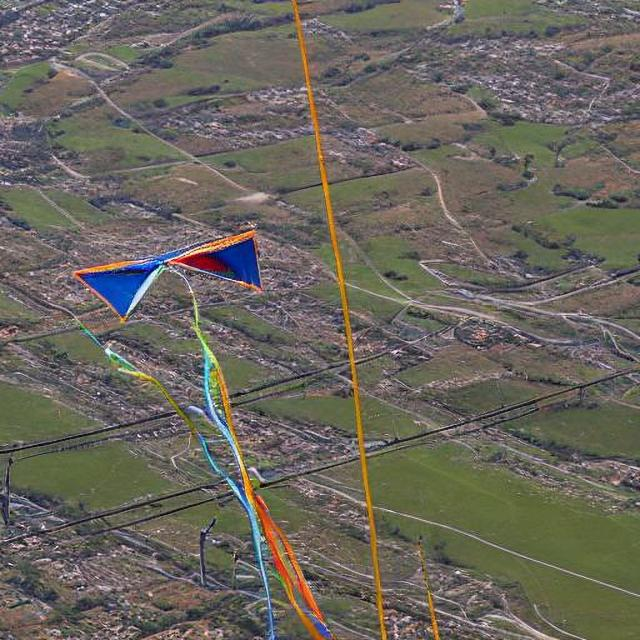floating object: (51, 216, 367, 622), (42, 216, 263, 347)
